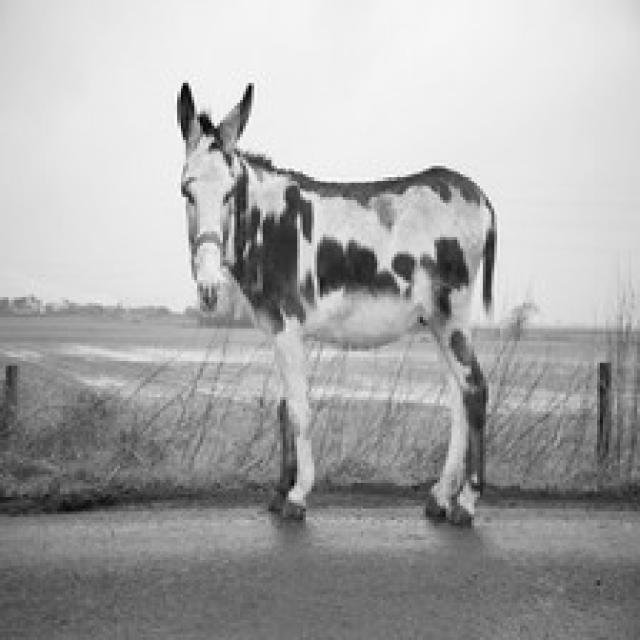Donkey: (174, 80, 497, 526)
